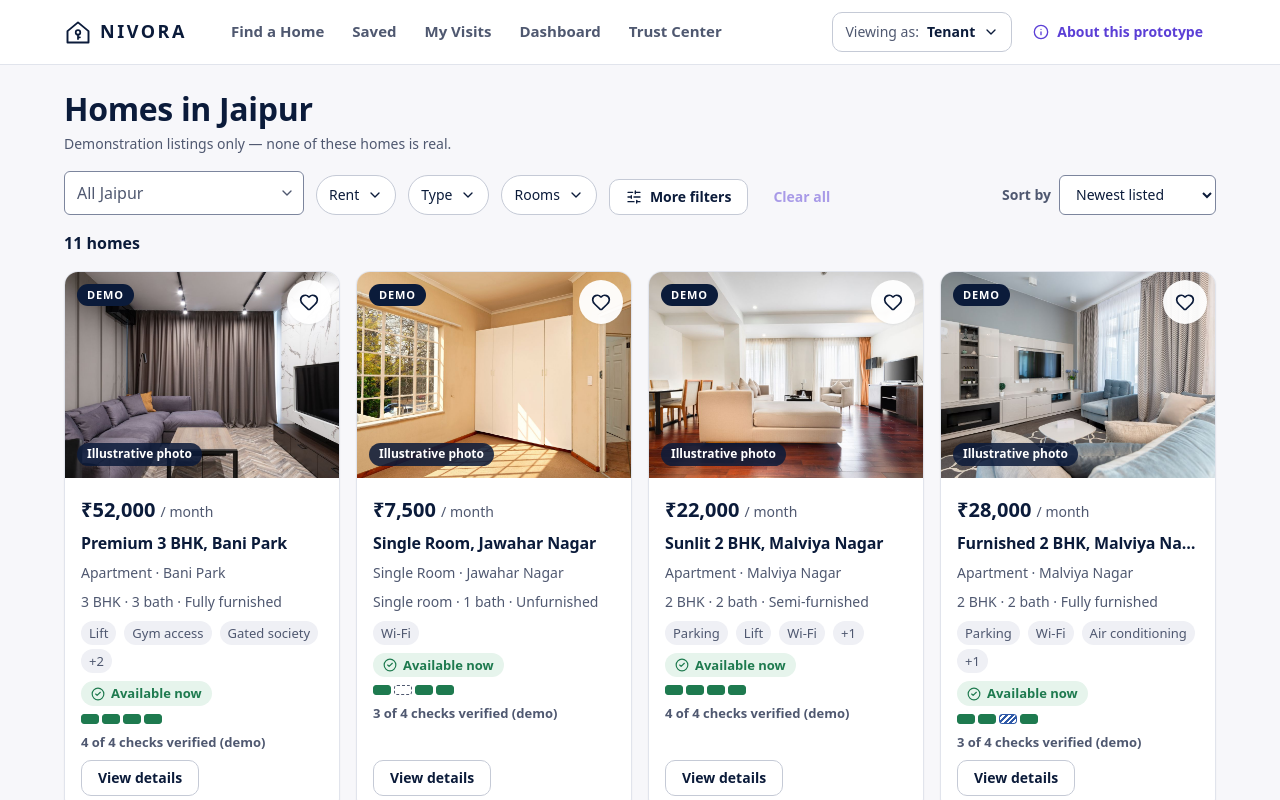
Test: T-02 Search results › changing a quick filter updates the URL, the list and the count
This screenshot has width=1280, height=800.
Click the button "Type" at (449, 195), box [408, 175, 490, 215]
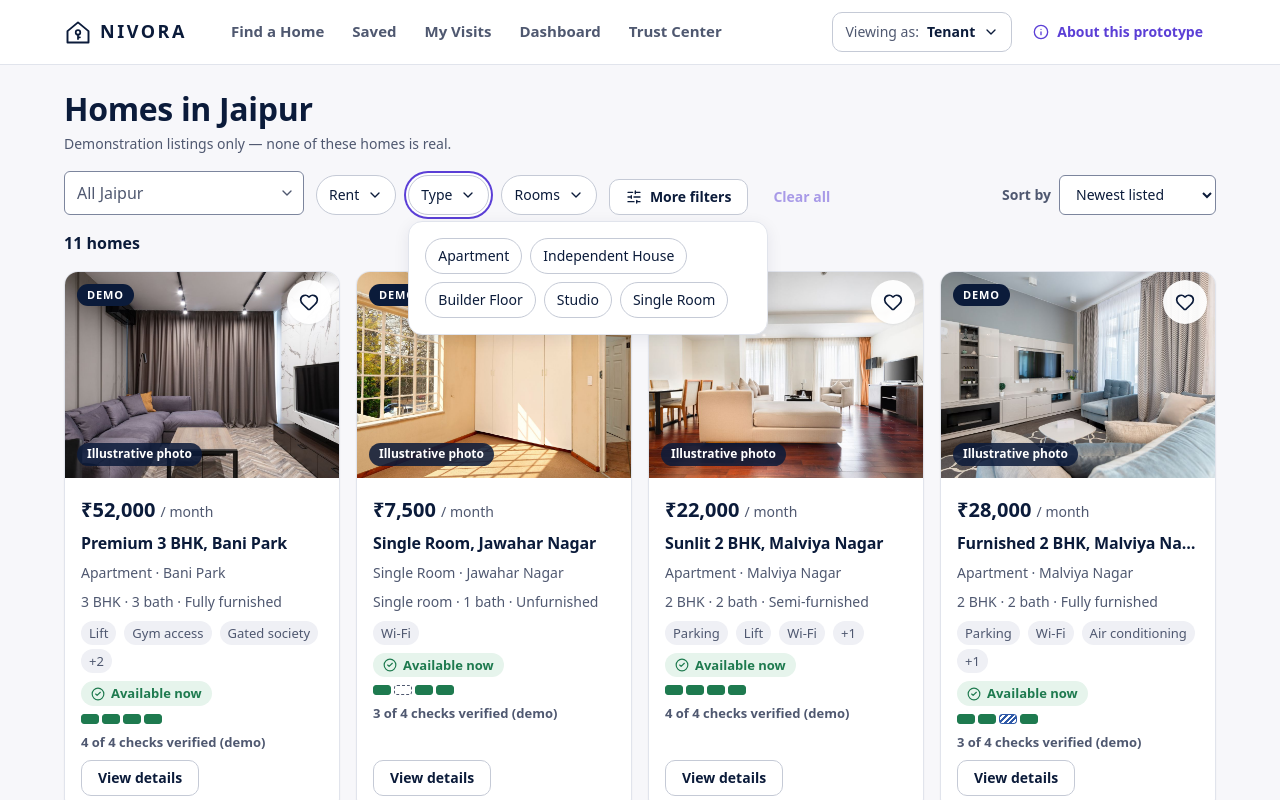
Click the button "Studio" at (578, 300), box [544, 282, 612, 318]
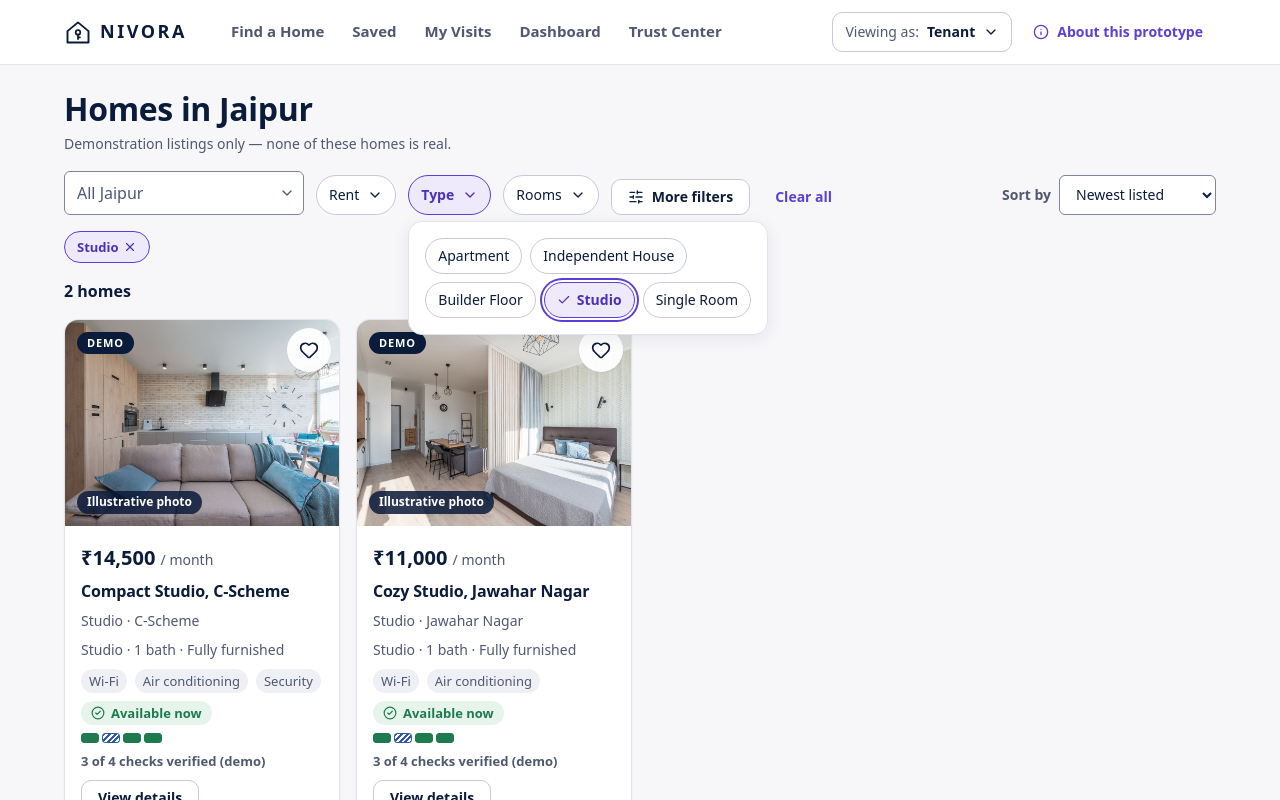
Result: the text with test id "result-count" reads "2 homes" at [64, 280, 131, 302]
